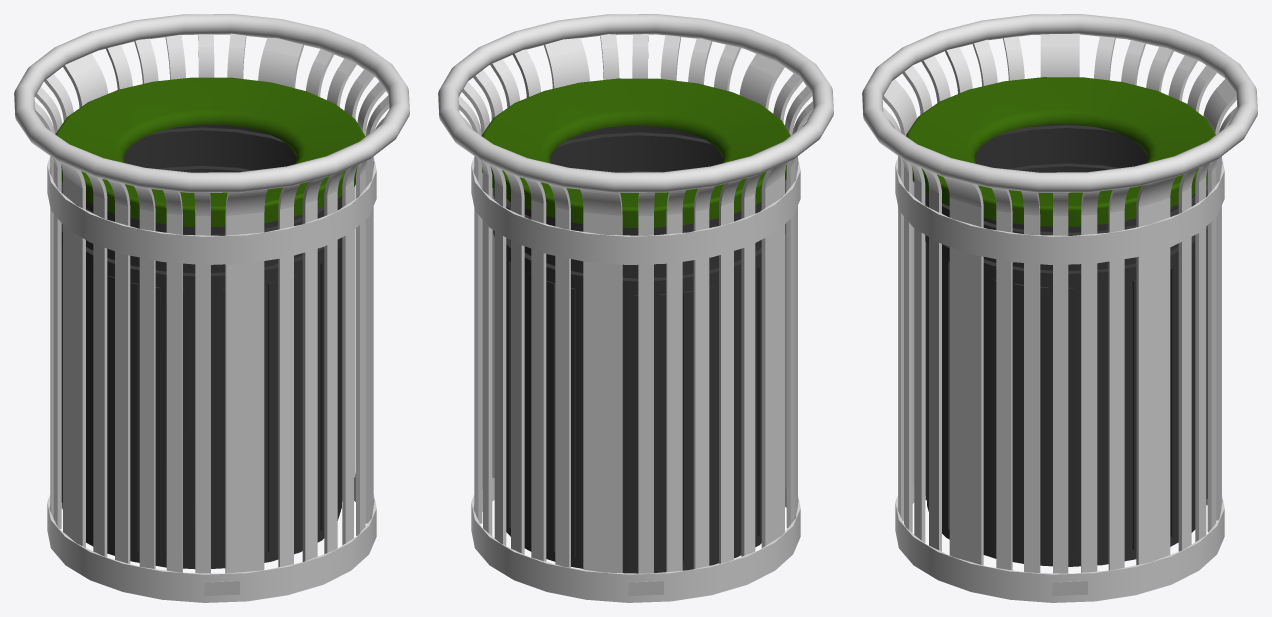
The picture shows the model from 3 angles, left to right: view 1: azimuth 30°, elevation 25°; view 2: azimuth 150°, elevation 25°; view 3: azimuth 270°, elevation 25°; orthographic projection.
Visible parts, largest first — view 1: mesh81_mesh81-geometry, mesh1_mesh1-geometry, mesh139_mesh139-geometry, mesh121_mesh121-geometry, mesh158_mesh158-geometry, mesh114_mesh114-geometry, mesh102_mesh102-geometry, mesh156_mesh156-geometry, mesh165_mesh165-geometry, mesh110_mesh110-geometry, mesh137_mesh137-geometry, mesh167_mesh167-geometry (+30 smaller); view 2: mesh81_mesh81-geometry, mesh1_mesh1-geometry, mesh139_mesh139-geometry, mesh127_mesh127-geometry, mesh158_mesh158-geometry, mesh114_mesh114-geometry, mesh102_mesh102-geometry, mesh148_mesh148-geometry, mesh142_mesh142-geometry, mesh150_mesh150-geometry, mesh129_mesh129-geometry, mesh131_mesh131-geometry (+30 smaller); view 3: mesh81_mesh81-geometry, mesh1_mesh1-geometry, mesh139_mesh139-geometry, mesh125_mesh125-geometry, mesh123_mesh123-geometry, mesh158_mesh158-geometry, mesh114_mesh114-geometry, mesh169_mesh169-geometry, mesh152_mesh152-geometry, mesh171_mesh171-geometry, mesh112_mesh112-geometry, mesh104_mesh104-geometry (+30 smaller).
Boxes of the visible parts, bbox=[...] form: mesh81_mesh81-geometry: bbox=[61, 124, 342, 569]; mesh1_mesh1-geometry: bbox=[55, 77, 365, 226]; mesh139_mesh139-geometry: bbox=[14, 14, 409, 192]; mesh121_mesh121-geometry: bbox=[225, 189, 267, 573]; mesh158_mesh158-geometry: bbox=[47, 156, 376, 264]; mesh114_mesh114-geometry: bbox=[47, 471, 376, 602]; mesh102_mesh102-geometry: bbox=[60, 163, 85, 547]; mesh156_mesh156-geometry: bbox=[163, 190, 182, 572]; mesh165_mesh165-geometry: bbox=[133, 186, 155, 568]; mesh110_mesh110-geometry: bbox=[194, 193, 210, 573]; mesh137_mesh137-geometry: bbox=[278, 184, 300, 567]; mesh167_mesh167-geometry: bbox=[107, 180, 130, 563]; mesh81_mesh81-geometry: bbox=[493, 125, 785, 573]; mesh1_mesh1-geometry: bbox=[481, 78, 790, 227]; mesh139_mesh139-geometry: bbox=[438, 14, 833, 192]; mesh127_mesh127-geometry: bbox=[580, 189, 622, 572]; mesh158_mesh158-geometry: bbox=[471, 157, 800, 264]; mesh114_mesh114-geometry: bbox=[471, 477, 800, 602]; mesh102_mesh102-geometry: bbox=[761, 162, 787, 547]; mesh148_mesh148-geometry: bbox=[666, 190, 686, 571]; mesh142_mesh142-geometry: bbox=[693, 186, 714, 568]; mesh150_mesh150-geometry: bbox=[638, 192, 654, 573]; mesh129_mesh129-geometry: bbox=[548, 184, 570, 567]; mesh131_mesh131-geometry: bbox=[524, 178, 546, 561]; mesh81_mesh81-geometry: bbox=[925, 124, 1207, 566]; mesh1_mesh1-geometry: bbox=[906, 77, 1215, 226]; mesh139_mesh139-geometry: bbox=[862, 14, 1257, 192]; mesh125_mesh125-geometry: bbox=[1136, 176, 1176, 565]; mesh123_mesh123-geometry: bbox=[943, 177, 983, 565]; mesh158_mesh158-geometry: bbox=[895, 158, 1224, 264]; mesh114_mesh114-geometry: bbox=[895, 474, 1224, 602]; mesh169_mesh169-geometry: bbox=[1108, 187, 1129, 570]; mesh152_mesh152-geometry: bbox=[1021, 191, 1040, 572]; mesh171_mesh171-geometry: bbox=[1081, 191, 1099, 572]; mesh112_mesh112-geometry: bbox=[991, 188, 1012, 570]; mesh104_mesh104-geometry: bbox=[1053, 193, 1068, 573].
Bounding box in the file's own units: 0.5347 × 0.6544 × 0.5347.
